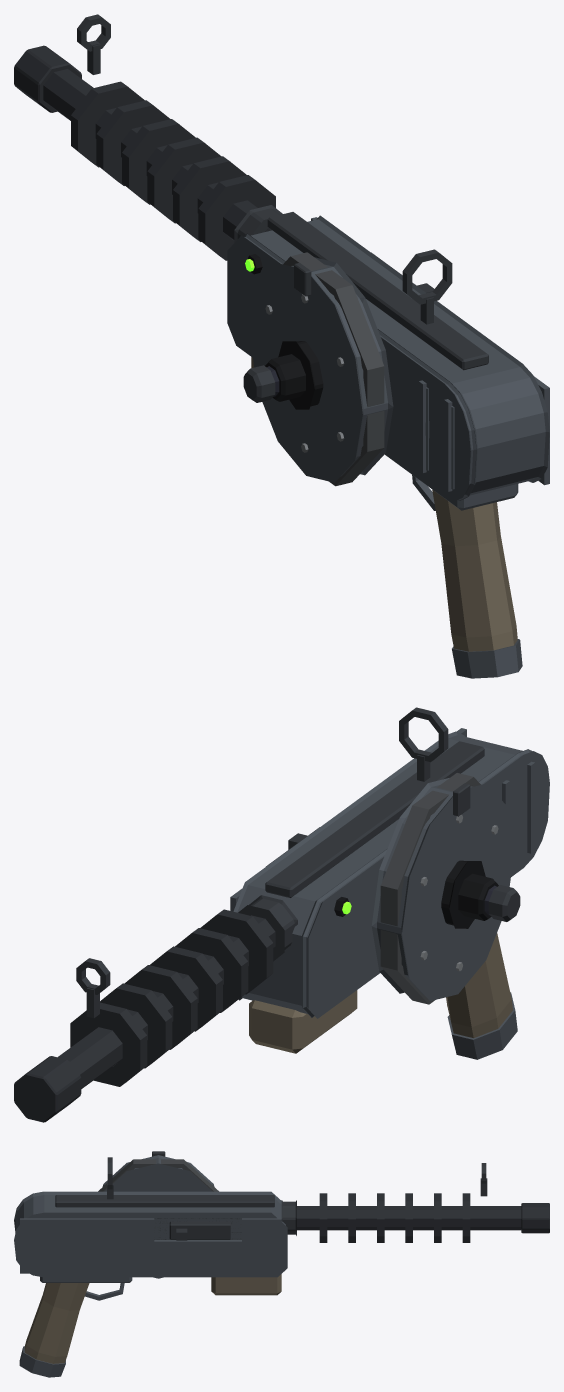
Rendered from switchback_b.glb.
3 views of the same model, one above another, from view 1: azimuth 30°, elevation 25°; view 2: azimuth 150°, elevation 25°; view 3: azimuth 270°, elevation 25° (orthographic). The views are drawn at different scales.
Parts seen in each view (by area): view 1: Body; view 2: Body; view 3: Body, Bolt.
Boxes of the visible parts, x1=… form: Body: x1=14, y1=14, x2=549, y2=678; Body: x1=14, y1=707, x2=549, y2=1122; Body: x1=14, y1=1151, x2=549, y2=1377; Bolt: x1=169, y1=1221, x2=230, y2=1240.
Size of the model in its own units: 0.119 by 0.2146 by 0.4875.
